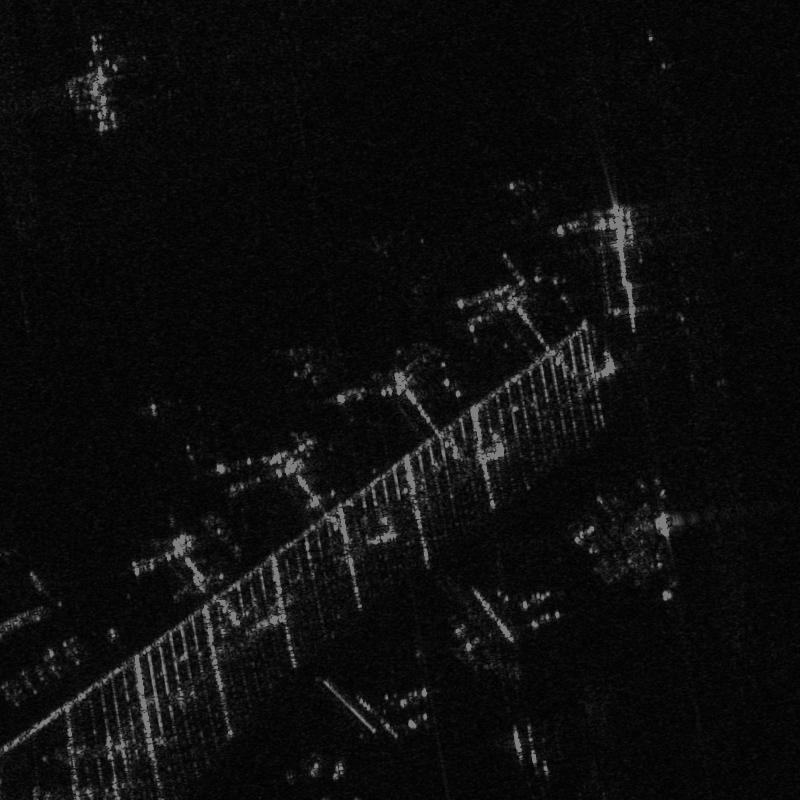A220: (508, 178, 561, 222)
